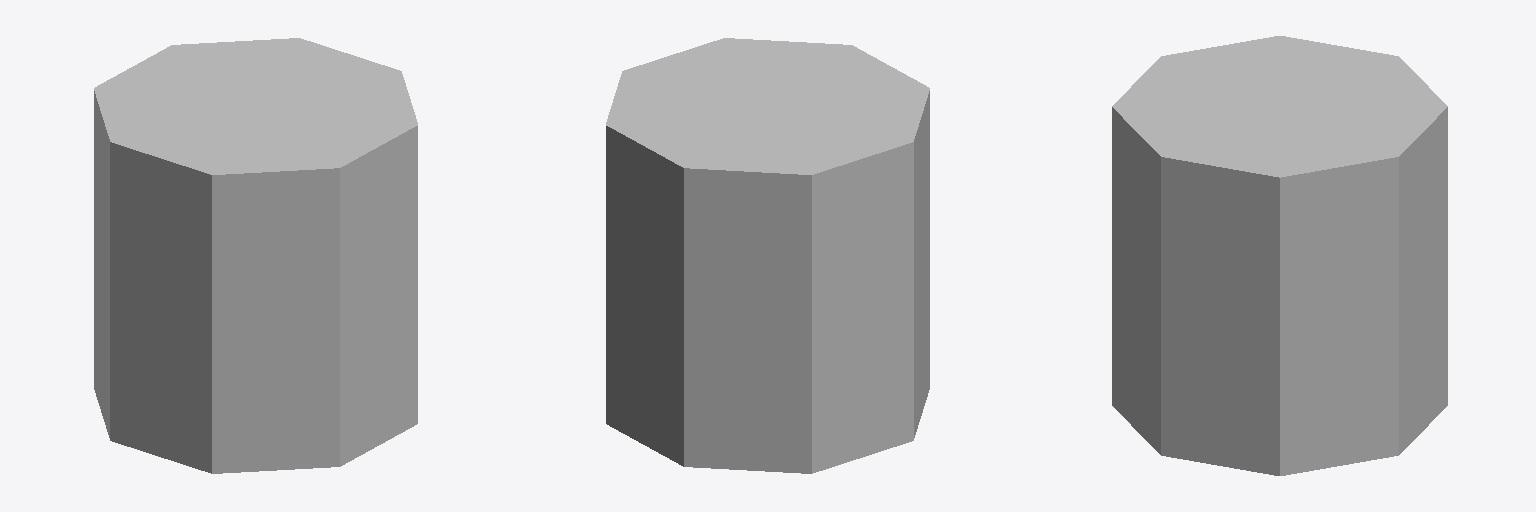
Rendered from CylinderTrigger.obj.
3 views of the same model, side by side, from view 1: azimuth 30°, elevation 25°; view 2: azimuth 150°, elevation 25°; view 3: azimuth 270°, elevation 25° (orthographic).
Visible parts, largest first — view 1: CylinderTrigger_Cylinder; view 2: CylinderTrigger_Cylinder; view 3: CylinderTrigger_Cylinder.
Part boxes in pixels (x1,y1,x2,y2): CylinderTrigger_Cylinder: (94,38,417,473); CylinderTrigger_Cylinder: (606,38,929,473); CylinderTrigger_Cylinder: (1112,36,1447,475).
Bounding box in the file's own units: 2.02 × 1.98 × 2.02.